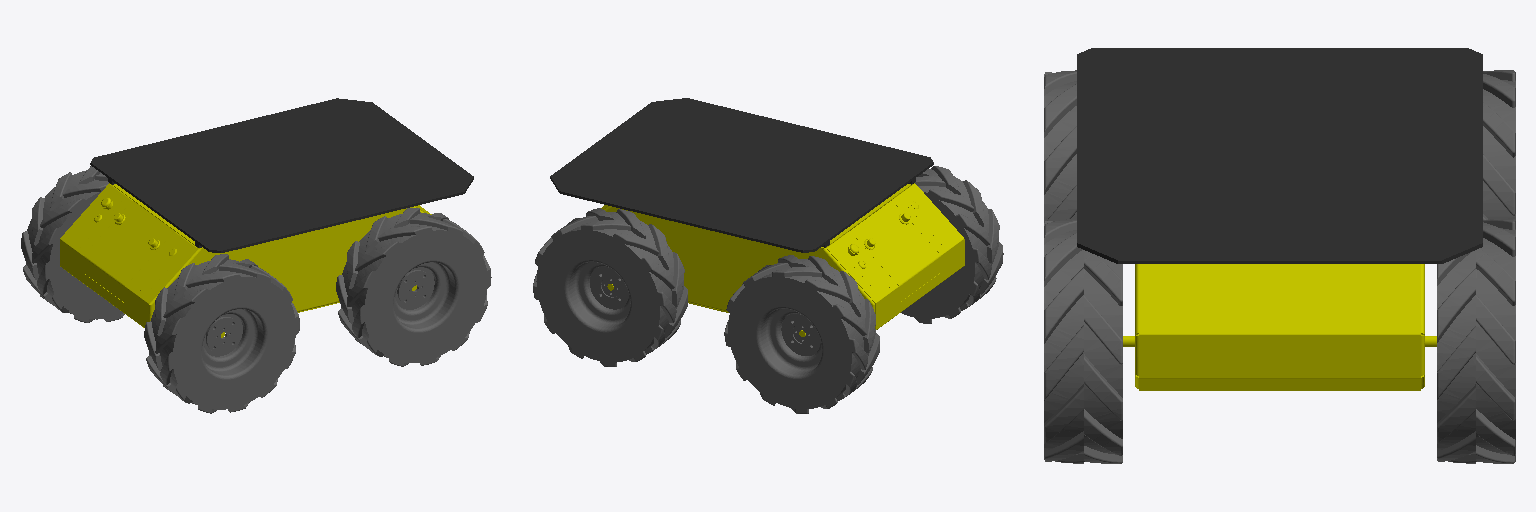
robot.urdf — husky:
<?xml version="1.0" ?>
<!-- =================================================================================== -->
<!-- |    This document was autogenerated by xacro from husky.urdf.xacro               | -->
<!-- |    EDITING THIS FILE BY HAND IS NOT RECOMMENDED                                 | -->
<!-- =================================================================================== -->
<!--
Software License Agreement (BSD)

\file      husky.urdf.xacro
\authors   [author] <[email redacted]>, [author] <[email redacted]>
\copyright Copyright (c) 2015, Clearpath Robotics, Inc., All rights reserved.

Redistribution and use in source and binary forms, with or without modification, are permitted provided that
the following conditions are met:
 * Redistributions of source code must retain the above copyright notice, this list of conditions and the
   following disclaimer.
 * Redistributions in binary form must reproduce the above copyright notice, this list of conditions and the
   following disclaimer in the documentation and/or other materials provided with the distribution.
 * Neither the name of Clearpath Robotics nor the names of its contributors may be used to endorse or promote
   products derived from this software without specific prior written permission.

THIS SOFTWARE IS PROVIDED BY THE COPYRIGHT [author] "AS IS" AND ANY EXPRESS OR IMPLIED WAR-
RANTIES, INCLUDING, BUT NOT LIMITED TO, THE IMPLIED WARRANTIES OF MERCHANTABILITY AND FITNESS FOR A PARTICULAR
PURPOSE ARE DISCLAIMED. IN NO EVENT SHALL THE COPYRIGHT [author] LIABLE FOR ANY DIRECT, IN-
DIRECT, INCIDENTAL, SPECIAL, EXEMPLARY, OR CONSEQUENTIAL DAMAGES (INCLUDING, BUT NOT LIMITED TO, PROCUREMENT
OF SUBSTITUTE GOODS OR SERVICES; LOSS OF USE, DATA, OR PROFITS; OR BUSINESS INTERRUPTION) HOWEVER CAUSED AND
ON ANY THEORY OF LIABILITY, WHETHER IN CONTRACT, STRICT LIABILITY, OR TORT (INCLUDING NEGLIGENCE OR OTHERWISE)
ARISING IN ANY WAY OUT OF THE USE OF THIS SOFTWARE, EVEN IF ADVISED OF THE POSSIBILITY OF SUCH DAMAGE.
-->
<robot name="husky">
  <material name="dark_grey">
    <color rgba="0.2 0.2 0.2 1.0"/>
  </material>
  <material name="medium_grey">
    <color rgba="0.6 0.6 0.6 1.0"/>
  </material>
  <material name="light_grey">
    <color rgba="0.8 0.8 0.8 1.0"/>
  </material>
  <material name="yellow">
    <color rgba="0.8 0.8 0.0 1.0"/>
  </material>
  <material name="black">
    <color rgba="0.15 0.15 0.15 1.0"/>
  </material>
  <material name="white">
    <color rgba="1.0 1.0 1.0 1.0"/>
  </material>
  <material name="red">
    <color rgba="1.0 0.0 0.0 1.0"/>
  </material>
  <!-- Base link is the center of the robot's bottom plate -->
  <link name="base_link">
    <visual>
      <origin rpy="0 0 0" xyz="0 0 0"/>
      <geometry>
        <mesh filename="../meshes/base_link.obj"/>
      </geometry>
      <material name="">
            <color rgba="0.8 0.8 0.0 1.0"/>
      </material>
    </visual>
    <collision>
      <origin rpy="0 0 0" xyz="0.0 0 0.061875"/>
      <geometry>
        <box size="0.9874 0.5709 0.12375"/>
      </geometry>
    </collision>
    <collision>
      <origin rpy="0 0 0" xyz="0 0 0.17562499999999998"/>
      <geometry>
        <box size="0.7899200000000001 0.5709 0.10375"/>
      </geometry>
    </collision>
  </link>
  <!-- Base footprint is on the ground under the robot -->
  <link name="base_footprint"/>
  <joint name="base_footprint_joint" type="fixed">
    <origin rpy="0 0 0" xyz="0 0 -0.13228"/>
    <parent link="base_link"/>
    <child link="base_footprint"/>
  </joint>
  <!-- Inertial link stores the robot's inertial information -->
  <link name="inertial_link">
    <inertial>
      <mass value="46.034"/>
      <origin xyz="-0.00065 -0.0 0.062"/>
      <!-- <origin xyz="-0.00065 -0.085 0.062"/> -->
      <inertia ixx="0.6022" ixy="-0.02364" ixz="-0.1197" iyy="1.7386" iyz="-0.001544" izz="2.0296"/>
    </inertial>
  </link>
  <joint name="inertial_joint" type="fixed">
    <origin rpy="0 0 0" xyz="0 0 0"/>
    <parent link="base_link"/>
    <child link="inertial_link"/>
  </joint>
  <link name="front_left_wheel_link">
    <inertial>
      <mass value="2.637"/>
      <origin xyz="0 0 0"/>
      <inertia ixx="0.02467" ixy="0" ixz="0" iyy="0.04411" iyz="0" izz="0.02467"/>
    </inertial>
    <visual>
      <origin rpy="0 0 0" xyz="0 0 0"/>
      <geometry>
        <mesh filename="../meshes/wheel.obj"/>
      </geometry>
          <material name="">
            <color rgba="0.42 0.42 0.42 1"/>
      </material>
    </visual>
    <collision>
      <origin rpy="1.570795 0 0" xyz="0 0 0"/>
      <geometry>
        <cylinder length="0.1143" radius="0.1651"/>
      </geometry>
    </collision>
  </link>
  <gazebo reference="front_left_wheel_link">
    <mu1 value="1.0"/>
    <mu2 value="1.0"/>
    <kp value="10000000.0"/>
    <kd value="1.0"/>
    <fdir1 value="1 0 0"/>
  </gazebo>
  <joint name="front_left_wheel" type="continuous">
    <parent link="base_link"/>
    <child link="front_left_wheel_link"/>
    <origin rpy="0 0 0" xyz="0.256 0.2854 0.03282"/>
    <axis rpy="0 0 0" xyz="0 1 0"/>
  </joint>
  <transmission name="front_left_wheel_trans" type="SimpleTransmission">
    <type>transmission_interface/SimpleTransmission</type>
    <actuator name="front_left_wheel_motor">
      <mechanicalReduction>1</mechanicalReduction>
    </actuator>
    <joint name="front_left_wheel">
      <hardwareInterface>hardware_interface/VelocityJointInterface</hardwareInterface>
    </joint>
  </transmission>
  <link name="front_right_wheel_link">
    <inertial>
      <mass value="2.637"/>
      <origin xyz="0 0 0"/>
      <inertia ixx="0.02467" ixy="0" ixz="0" iyy="0.04411" iyz="0" izz="0.02467"/>
    </inertial>
    <visual>
      <origin rpy="0 0 0" xyz="0 0 0"/>
      <geometry>
        <mesh filename="../meshes/wheel.obj"/>
      </geometry>
      <material name="">
            <color rgba="0.42 0.42 0.42 1"/>
      </material>
    </visual>
    <collision>
      <origin rpy="1.570795 0 0" xyz="0 0 0"/>
      <geometry>
        <cylinder length="0.1143" radius="0.1651"/>
      </geometry>
    </collision>
  </link>
  <gazebo reference="front_right_wheel_link">
    <mu1 value="1.0"/>
    <mu2 value="1.0"/>
    <kp value="10000000.0"/>
    <kd value="1.0"/>
    <fdir1 value="1 0 0"/>
  </gazebo>
  <joint name="front_right_wheel" type="continuous">
    <parent link="base_link"/>
    <child link="front_right_wheel_link"/>
    <origin rpy="0 0 0" xyz="0.256 -0.2854 0.03282"/>
    <axis rpy="0 0 0" xyz="0 1 0"/>
  </joint>
  <transmission name="front_right_wheel_trans" type="SimpleTransmission">
    <type>transmission_interface/SimpleTransmission</type>
    <actuator name="front_right_wheel_motor">
      <mechanicalReduction>1</mechanicalReduction>
    </actuator>
    <joint name="front_right_wheel">
      <hardwareInterface>hardware_interface/VelocityJointInterface</hardwareInterface>
    </joint>
  </transmission>
  <link name="rear_left_wheel_link">
    <inertial>
      <mass value="2.637"/>
      <origin xyz="0 0 0"/>
      <inertia ixx="0.02467" ixy="0" ixz="0" iyy="0.04411" iyz="0" izz="0.02467"/>
    </inertial>
    <visual>
      <origin rpy="0 0 0" xyz="0 0 0"/>
      <geometry>
        <mesh filename="../meshes/wheel.obj"/>
      </geometry>
      <material name="">
            <color rgba="0.42 0.42 0.42 1"/>
      </material>
    </visual>
    <collision>
      <origin rpy="1.570795 0 0" xyz="0 0 0"/>
      <geometry>
        <cylinder length="0.1143" radius="0.1651"/>
      </geometry>
    </collision>
  </link>
  <gazebo reference="rear_left_wheel_link">
    <mu1 value="1.0"/>
    <mu2 value="1.0"/>
    <kp value="10000000.0"/>
    <kd value="1.0"/>
    <fdir1 value="1 0 0"/>
  </gazebo>
  <joint name="rear_left_wheel" type="continuous">
    <parent link="base_link"/>
    <child link="rear_left_wheel_link"/>
    <origin rpy="0 0 0" xyz="-0.256 0.2854 0.03282"/>
    <axis rpy="0 0 0" xyz="0 1 0"/>
  </joint>
  <transmission name="rear_left_wheel_trans" type="SimpleTransmission">
    <type>transmission_interface/SimpleTransmission</type>
    <actuator name="rear_left_wheel_motor">
      <mechanicalReduction>1</mechanicalReduction>
    </actuator>
    <joint name="rear_left_wheel">
      <hardwareInterface>hardware_interface/VelocityJointInterface</hardwareInterface>
    </joint>
  </transmission>
  <link name="rear_right_wheel_link">
    <inertial>
      <mass value="2.637"/>
      <origin xyz="0 0 0"/>
      <inertia ixx="0.02467" ixy="0" ixz="0" iyy="0.04411" iyz="0" izz="0.02467"/>
    </inertial>
    <visual>
      <origin rpy="0 0 0" xyz="0 0 0"/>
      <geometry>
        <mesh filename="../meshes/wheel.obj"/>
      </geometry>
      <material name="">
            <color rgba="0.42 0.42 0.42 1"/>
      </material>
    </visual>
    <collision>
      <origin rpy="1.570795 0 0" xyz="0 0 0"/>
      <geometry>
        <cylinder length="0.1143" radius="0.1651"/>
      </geometry>
    </collision>
  </link>
  <gazebo reference="rear_right_wheel_link">
    <mu1 value="1.0"/>
    <mu2 value="1.0"/>
    <kp value="10000000.0"/>
    <kd value="1.0"/>
    <fdir1 value="1 0 0"/>
  </gazebo>
  <joint name="rear_right_wheel" type="continuous">
    <parent link="base_link"/>
    <child link="rear_right_wheel_link"/>
    <origin rpy="0 0 0" xyz="-0.256 -0.2854 0.03282"/>
    <axis rpy="0 0 0" xyz="0 1 0"/>
  </joint>
  <transmission name="rear_right_wheel_trans" type="SimpleTransmission">
    <type>transmission_interface/SimpleTransmission</type>
    <actuator name="rear_right_wheel_motor">
      <mechanicalReduction>1</mechanicalReduction>
    </actuator>
    <joint name="rear_right_wheel">
      <hardwareInterface>hardware_interface/VelocityJointInterface</hardwareInterface>
    </joint>
  </transmission>
  <!--
      CHASSIS: Spawn and attach default chassis.
               Currently, no customization available.
    -->
  <!-- Spawn Husky chassis -->
  <link name="top_chassis_link">
    <visual>
      <origin rpy="0 0 0" xyz="0 0 0"/>
      <geometry>
        <mesh filename="../meshes/top_chassis.obj"/>
      </geometry>
      <material name="">
            <color rgba="0.8 0.8 0.0 1.0"/>
      </material>
    </visual>
  </link>
  <!-- Attach chassis to the robot -->
  <joint name="top_chassis_joint" type="fixed">
    <parent link="base_link"/>
    <child link="top_chassis_link"/>
  </joint>
  <link name="front_bumper_link">
    <visual>
      <geometry>
        <mesh filename="../meshes/bumper.dae"/>
      </geometry>
      <material name="">
            <color rgba="0.22 0.22 0.22 1.0"/>
      </material>
    </visual>
  </link>
  <!-- Attach front bumper -->
  <joint name="front_bumper" type="fixed">
    <origin rpy="0 0 0" xyz="0.48 0 0.091"/>
    <parent link="base_link"/>
    <child link="front_bumper_link"/>
  </joint>
  <link name="rear_bumper_link">
    <visual>
      <geometry>
        <mesh filename="../meshes/bumper.dae"/>
      </geometry>
      <material name="">
            <color rgba="0.22 0.22 0.22 1.0"/>
      </material>
    </visual>
  </link>
  <!-- Attach rear bumper -->
  <joint name="rear_bumper" type="fixed">
    <origin rpy="0 0 3.14159" xyz="-0.48 0 0.091"/>
    <parent link="base_link"/>
    <child link="rear_bumper_link"/>
  </joint>
  <!-- Spawn user rails -->
  <link name="user_rail_link">
    <visual>
      <geometry>
        <mesh filename="../meshes/user_rail.obj"/>
      </geometry>
      <material name="">
            <color rgba="0.22 0.22 0.22 1.0"/>
      </material>
    </visual>
  </link>
  <!-- Attach user rails to base link -->
  <joint name="user_rail" type="fixed">
    <origin rpy="0 0 0" xyz="0.272 0 0.245"/>
    <parent link="base_link"/>
    <child link="user_rail_link"/>
  </joint>
  <!-- Spawn default top plate -->
  <link name="top_plate_link">
    <visual>
      <origin rpy="0 0 0" xyz="0 0 0"/>
      <geometry>
        <mesh filename="../meshes/top_plate.obj"/>
      </geometry>
      <material name="">
            <color rgba="0.22 0.22 0.22 1.0"/>
      </material>
    </visual>
    <collision>
      <origin rpy="0 0 0" xyz="0 0 0"/>
      <geometry>
        <mesh filename="../meshes/top_plate.obj"/>
      </geometry>
    </collision>
  </link>
  <!-- Attach default top plate -->
  <joint name="top_plate_joint" type="fixed">
    <parent link="base_link"/>
    <child link="top_plate_link"/>
    <origin rpy="0 0 0" xyz="0.0812 0 0.245"/>
  </joint>
  <!-- Default top plate front link -->
  <link name="top_plate_front_link"/>
  <joint name="top_plate_front_joint" type="fixed">
    <parent link="top_plate_link"/>
    <child link="top_plate_front_link"/>
    <origin rpy="0 0 0" xyz="0.36367 0 0.00639"/>
  </joint>
  <!-- Default top plate rear link-->
  <link name="top_plate_rear_link"/>
  <joint name="top_plate_rear_joint" type="fixed">
    <parent link="top_plate_link"/>
    <child link="top_plate_rear_link"/>
    <origin rpy="0 0 0" xyz="-0.36633 0 0.00639"/>
  </joint>
  <!--
      IMU Link: Standard location to add an IMU (i.e. UM7 or Microstrain)
  -->
  <link name="imu_link"/>
  <joint name="imu_joint" type="fixed">
    <origin rpy="0 -1.5708 3.1416" xyz="0.19 0 0.149"/>
    <parent link="base_link"/>
    <child link="imu_link"/>
  </joint>
  <gazebo reference="imu_link">
  </gazebo>
  <gazebo>
    <plugin filename="libgazebo_ros_control.so" name="gazebo_ros_control">
      <robotNamespace>/</robotNamespace>
      <legacyModeNS>true</legacyModeNS>
    </plugin>
  </gazebo>
  <gazebo>
    <plugin filename="libhector_gazebo_ros_imu.so" name="imu_controller">
      <robotNamespace>/</robotNamespace>
      <updateRate>50.0</updateRate>
      <bodyName>base_link</bodyName>
      <topicName>imu/data</topicName>
      <accelDrift>0.005 0.005 0.005</accelDrift>
      <accelGaussianNoise>0.005 0.005 0.005</accelGaussianNoise>
      <rateDrift>0.005 0.005 0.005 </rateDrift>
      <rateGaussianNoise>0.005 0.005 0.005 </rateGaussianNoise>
      <headingDrift>0.005</headingDrift>
      <headingGaussianNoise>0.005</headingGaussianNoise>
    </plugin>
  </gazebo>
  <gazebo>
    <plugin filename="libhector_gazebo_ros_gps.so" name="gps_controller">
      <robotNamespace>/</robotNamespace>
      <updateRate>40</updateRate>
      <bodyName>base_link</bodyName>
      <frameId>base_link</frameId>
      <topicName>navsat/fix</topicName>
      <velocityTopicName>navsat/vel</velocityTopicName>
      <referenceLatitude>49.9</referenceLatitude>
      <referenceLongitude>8.9</referenceLongitude>
      <referenceHeading>90</referenceHeading>
      <referenceAltitude>0</referenceAltitude>
      <drift>0.0001 0.0001 0.0001</drift>
    </plugin>
  </gazebo>
  <!-- This file is a placeholder which is included by default from
       husky.urdf.xacro. If a robot is being customized and requires
       additional URDF, set the HUSKY_URDF_EXTRAS environment variable
       to the full path of the file you would like included. -->
  <!-- This file is a placeholder which is included by default from
       husky.urdf.xacro. If a robot is being customized and requires
       additional URDF, set the HUSKY_URDF_EXTRAS environment variable
       to the full path of the file you would like included. -->
</robot>

--- What the picture shows (computed from the rendered views, not written in the file) ---
3 views of the same robot in one strip: view 1: azimuth 30°, elevation 25°; view 2: azimuth 150°, elevation 25°; view 3: azimuth 270°, elevation 25° (orthographic).
Model husky with 15 links and 14 joints (4 continuous, 10 fixed), rooted at base_link, posed every joint at zero.
Visible links, largest first — view 1: top_plate_link, rear_right_wheel_link, front_right_wheel_link, top_chassis_link, rear_left_wheel_link, base_link; view 2: top_plate_link, rear_left_wheel_link, front_left_wheel_link, top_chassis_link, rear_right_wheel_link, base_link; view 3: top_plate_link, top_chassis_link, front_left_wheel_link, front_right_wheel_link, rear_left_wheel_link, rear_right_wheel_link, base_link.
Boxes of the visible links, x1,y1,x2,y2 form: top_plate_link: (90,98,473,252); rear_right_wheel_link: (144,254,299,413); front_right_wheel_link: (336,208,491,366); top_chassis_link: (60,184,431,327); rear_left_wheel_link: (21,166,124,322); base_link: (109,183,423,337); top_plate_link: (550,98,933,252); rear_left_wheel_link: (724,255,879,413); front_left_wheel_link: (533,208,687,366); top_chassis_link: (601,183,964,329); rear_right_wheel_link: (901,166,1003,323); base_link: (604,187,908,336); top_plate_link: (1077,48,1482,263); top_chassis_link: (1139,264,1420,390); front_left_wheel_link: (1437,219,1515,463); front_right_wheel_link: (1044,219,1122,463); rear_left_wheel_link: (1483,70,1515,220); rear_right_wheel_link: (1044,70,1076,222); base_link: (1123,264,1436,388).
Bounding box of the posed robot: 0.88 × 0.6851 × 0.3963 m (x, y, z).
Meshes: 6 distinct files referenced, 8 mesh visuals loaded (5 OBJ); not drawn: 2 (reference not matched to a file when rendering).